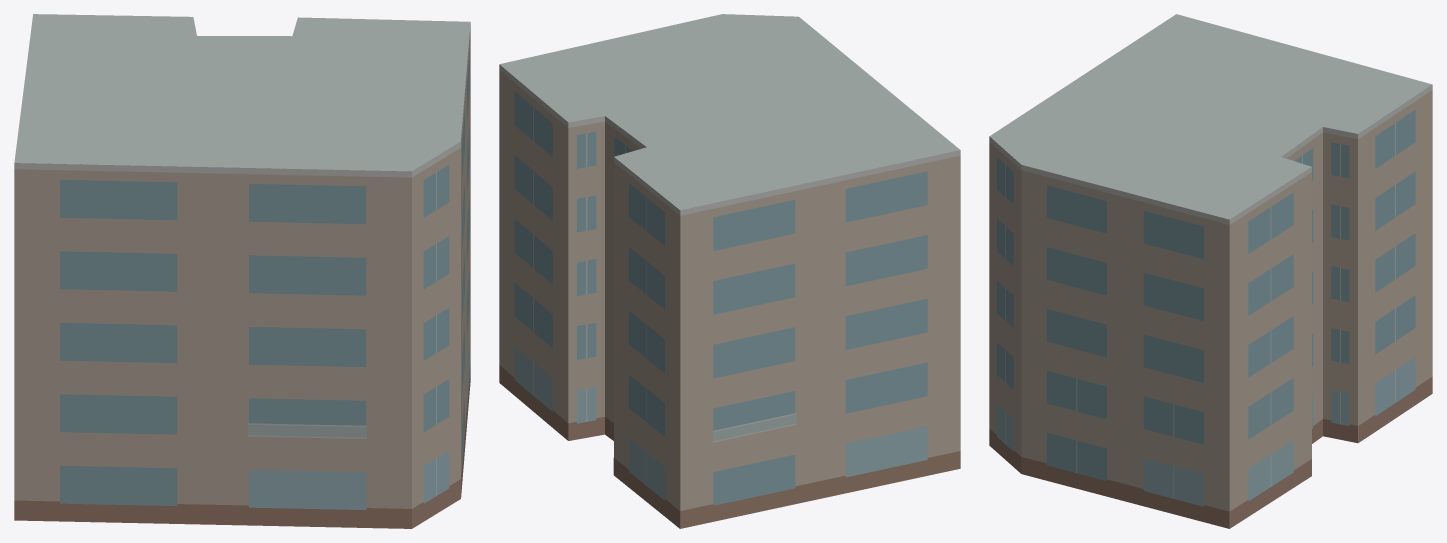
File: survey-upis-32930720.glb
3 renders of one model, left to right at view 1: azimuth 30°, elevation 25°; view 2: azimuth 150°, elevation 25°; view 3: azimuth 270°, elevation 25°, orthographic. The views are drawn at different scales.
Visible parts, largest first — view 1: survey-upis-32930720.tmp; view 2: survey-upis-32930720.tmp; view 3: survey-upis-32930720.tmp.
Part boxes in pixels (x1=…): survey-upis-32930720.tmp: x1=14, y1=14, x2=470, y2=528; survey-upis-32930720.tmp: x1=499, y1=14, x2=960, y2=528; survey-upis-32930720.tmp: x1=989, y1=14, x2=1432, y2=528.
Size of the model in its own units: 20.11 by 14.1 by 18.31.
